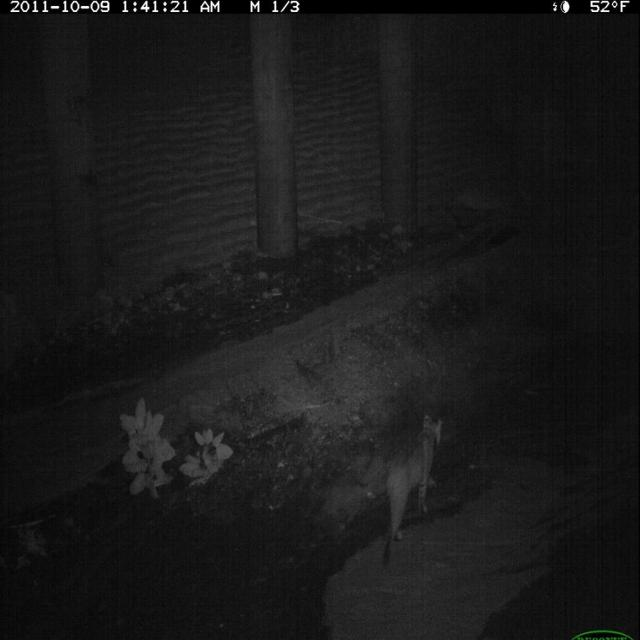bobcat: (376, 407, 450, 572)
